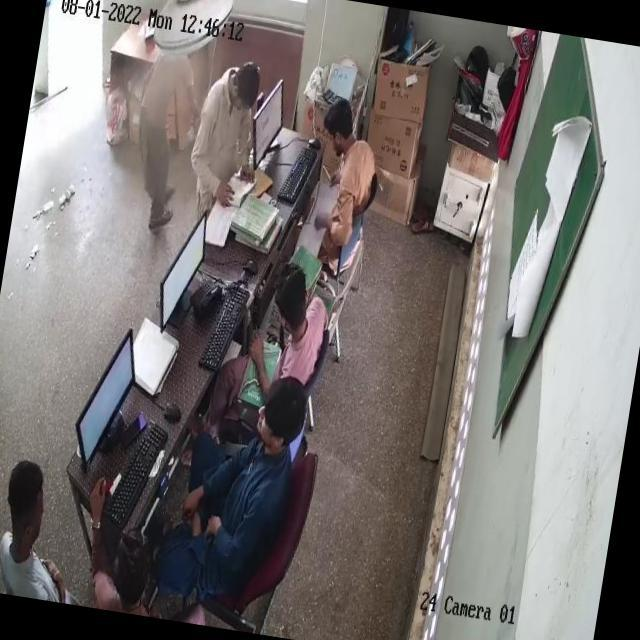person: (160, 368, 306, 597), (230, 256, 322, 396), (127, 41, 197, 214), (190, 48, 263, 210), (0, 459, 79, 602), (308, 105, 376, 248), (76, 520, 166, 618)
